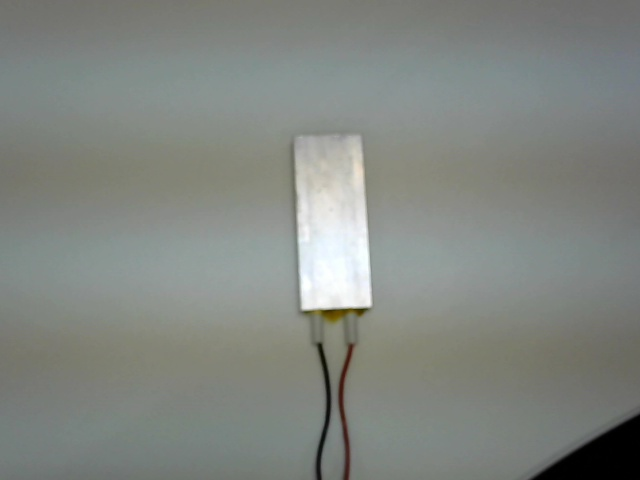heater: (280, 128, 395, 382)
